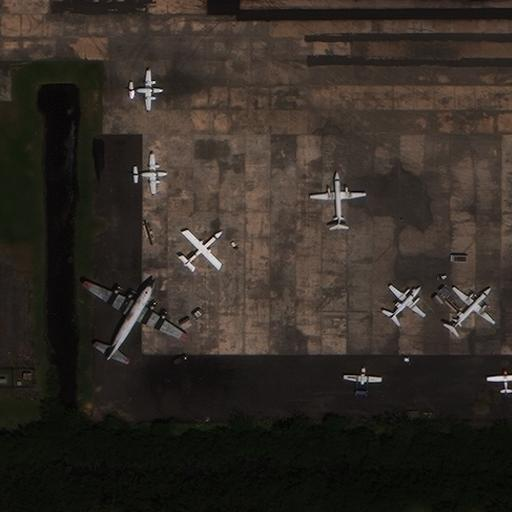Large Civil Transport: (84, 279, 191, 358)
Medium Civil Transport: (309, 171, 365, 230), (450, 286, 495, 331)
Small Civil Transport: (133, 152, 167, 193), (129, 69, 162, 110), (185, 229, 221, 265), (390, 284, 424, 318), (342, 367, 381, 394), (487, 370, 512, 393)
